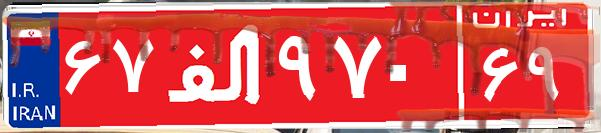0: (385, 28, 445, 110)
6: (57, 26, 110, 107), (475, 38, 525, 113)
7: (330, 28, 385, 110), (110, 28, 158, 105)
9: (273, 28, 330, 110), (525, 38, 570, 115)
الف: (158, 15, 273, 115)
